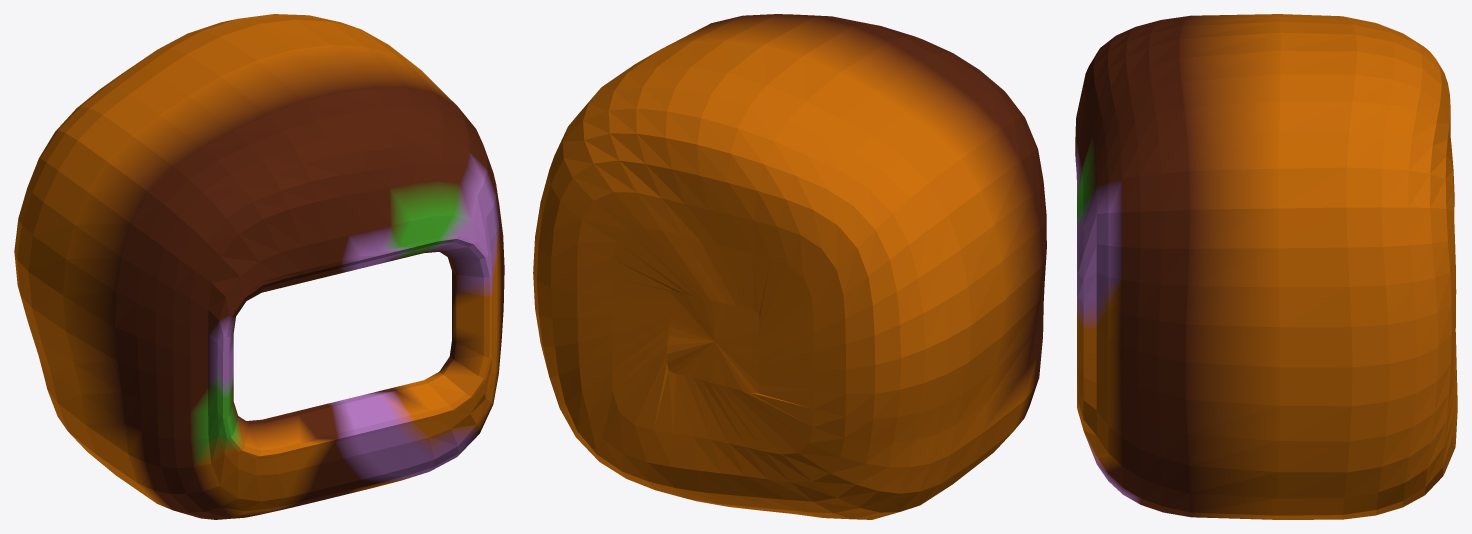
Rendered from donut.glb.
3 views of the same model, side by side, from view 1: azimuth 30°, elevation 25°; view 2: azimuth 150°, elevation 25°; view 3: azimuth 270°, elevation 25° (orthographic). The views are drawn at different scales.
Parts seen in each view (by area): view 1: geometry_0; view 2: geometry_0; view 3: geometry_0.
Boxes of the visible parts, x1,y1,x2,y2 form: geometry_0: (14,14,504,519); geometry_0: (533,14,1046,519); geometry_0: (1075,14,1457,519).
Size of the model in its own units: 1.96 by 1.89 by 1.51.
